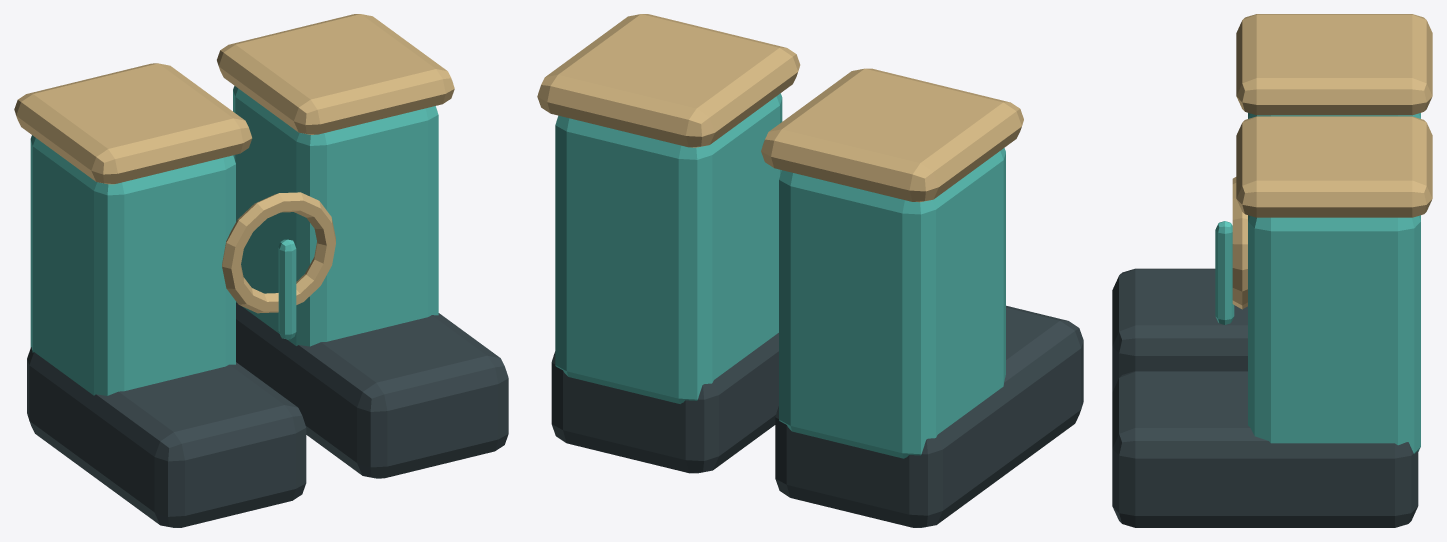
Rendered from arm_anchor_boots.glb.
3 renders of one model, left to right at view 1: azimuth 30°, elevation 25°; view 2: azimuth 150°, elevation 25°; view 3: azimuth 270°, elevation 25°, orthographic. The views are drawn at different scales.
Visible parts, largest first — view 1: arm_anchor_boots; view 2: arm_anchor_boots; view 3: arm_anchor_boots.
Boxes of the visible parts, x1,y1,x2,y2 form: arm_anchor_boots: [14, 14, 508, 527]; arm_anchor_boots: [537, 14, 1083, 527]; arm_anchor_boots: [1112, 14, 1432, 527].
Bounding box in the file's own units: 0.75 × 0.67 × 0.555.
